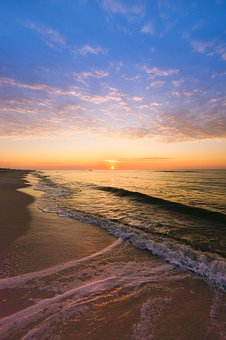beach: (2, 171, 226, 336)
sky: (5, 1, 221, 170)
